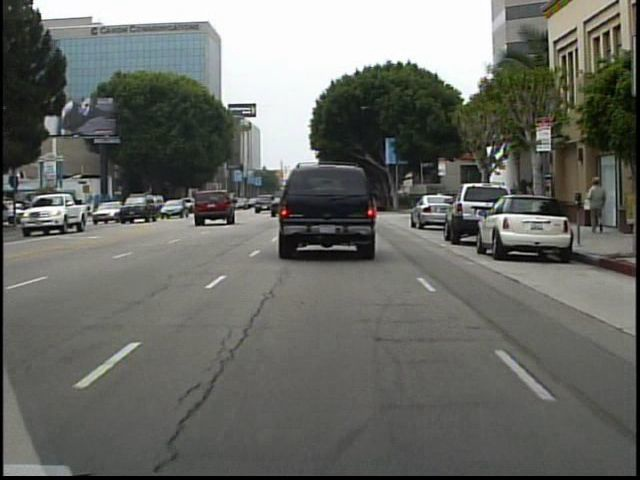person: (582, 173, 609, 237), (473, 177, 493, 220), (39, 199, 55, 226)
